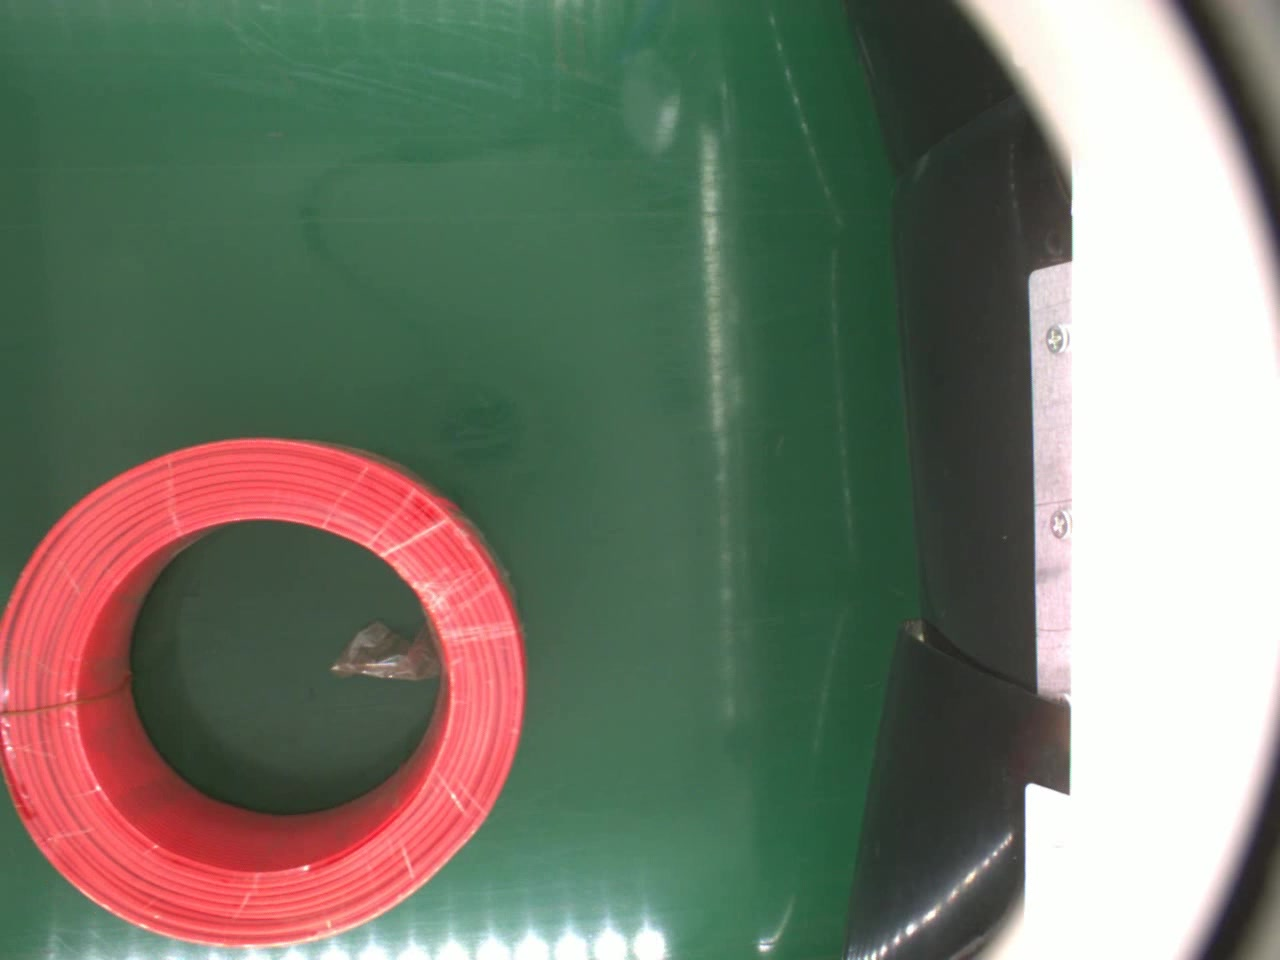red: (0, 432, 529, 951)
